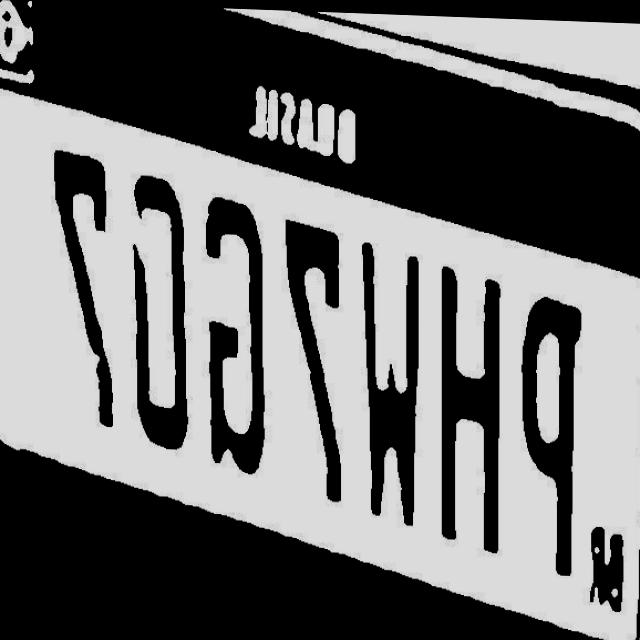0: (110, 169, 189, 463)
7: (33, 151, 120, 443), (272, 223, 351, 516)
g: (187, 194, 265, 497)
h: (433, 251, 511, 552)
p: (517, 273, 584, 572)
w: (346, 239, 428, 524)
